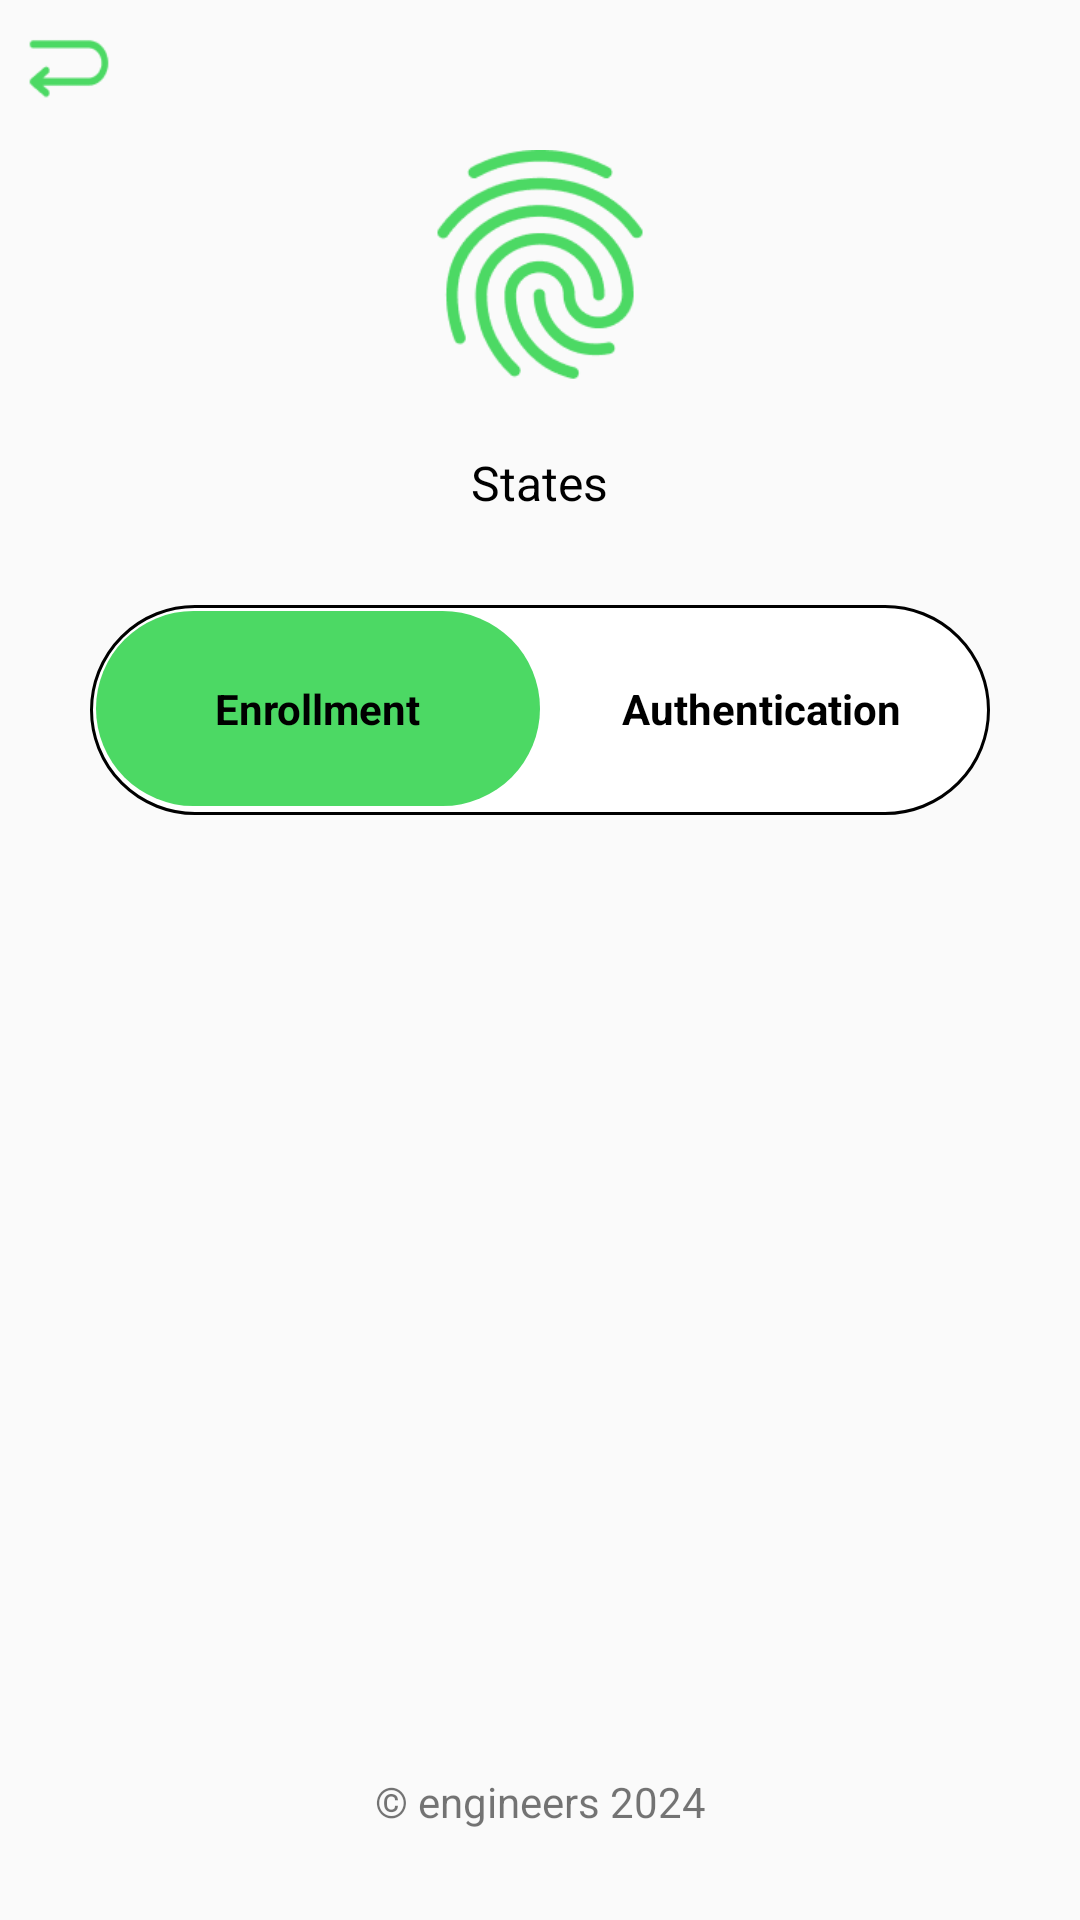

Screen size 1080*1920. Icon name, then its box in pixels as (x1, y1, x2, y2):
back: (29, 40, 109, 98)
